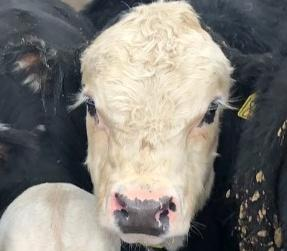muzzles: (101, 185, 189, 247)
